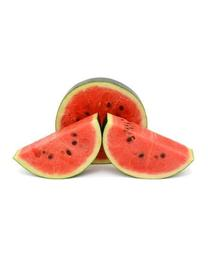watermelon: (12, 75, 197, 182)
